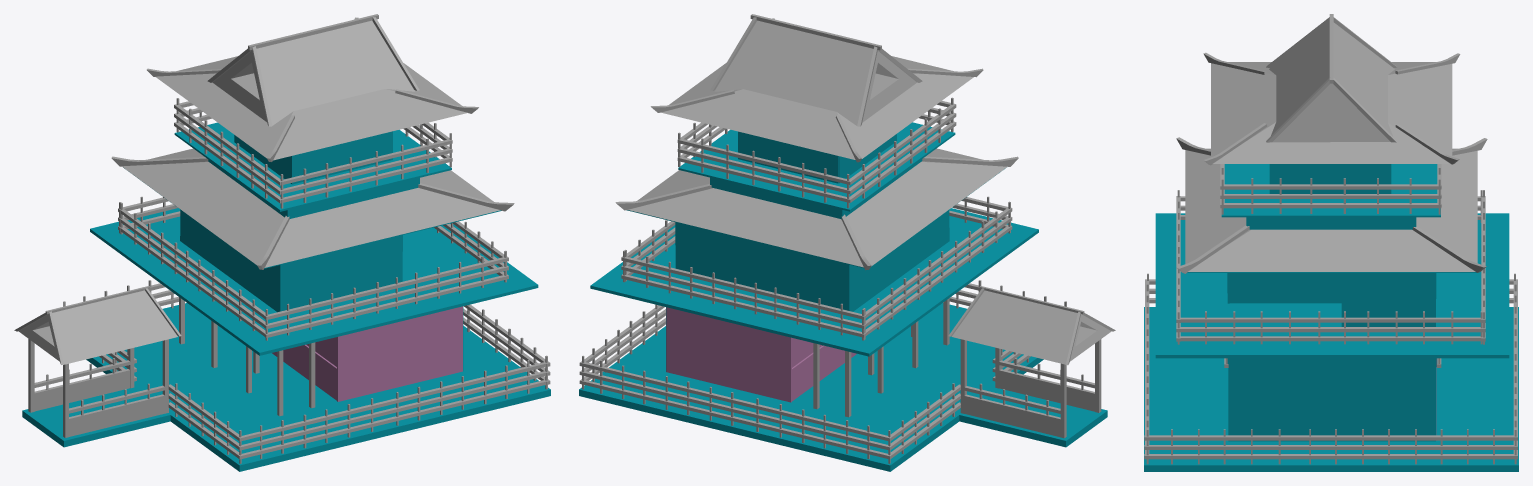
The model's file is main house.fbx.
The picture shows the model from 3 angles, left to right: view 1: azimuth 30°, elevation 25°; view 2: azimuth 150°, elevation 25°; view 3: azimuth 270°, elevation 25°; orthographic projection. The views are drawn at different scales.
Visible parts, largest first — view 1: railings1, polySurface54, polySurface184, polySurface655, polySurface236, polySurface186, polySurface656, polySurface228, polySurface57, polySurface65, polySurface58, polySurface55 (+4 smaller); view 2: railings1, polySurface54, polySurface184, polySurface655, polySurface236, polySurface186, polySurface657, polySurface658, polySurface228, polySurface65, polySurface58, polySurface55 (+5 smaller); view 3: railings1, polySurface655, polySurface54, polySurface184, polySurface169, polySurface186, polySurface236, polySurface65, polySurface60, polySurface659, polySurface66, polySurface62 (+4 smaller).
Part boxes in pixels (bbox=[...]): railings1: bbox=[28, 98, 550, 463]; polySurface54: bbox=[86, 303, 550, 471]; polySurface184: bbox=[122, 148, 500, 267]; polySurface655: bbox=[90, 208, 538, 355]; polySurface236: bbox=[212, 20, 414, 125]; polySurface186: bbox=[155, 56, 467, 160]; polySurface656: bbox=[337, 306, 462, 401]; polySurface228: bbox=[18, 290, 177, 364]; polySurface57: bbox=[281, 235, 402, 310]; polySurface65: bbox=[174, 122, 451, 211]; polySurface58: bbox=[180, 209, 281, 312]; polySurface55: bbox=[22, 387, 171, 447]; railings1: bbox=[579, 97, 1101, 463]; polySurface54: bbox=[579, 303, 1043, 471]; polySurface184: bbox=[628, 148, 1007, 267]; polySurface655: bbox=[590, 208, 1038, 356]; polySurface236: bbox=[714, 20, 916, 125]; polySurface186: bbox=[661, 56, 973, 159]; polySurface657: bbox=[666, 307, 791, 402]; polySurface658: bbox=[675, 222, 848, 310]; polySurface228: bbox=[951, 290, 1111, 364]; polySurface65: bbox=[678, 122, 955, 211]; polySurface58: bbox=[847, 210, 949, 311]; polySurface55: bbox=[958, 388, 1107, 447]; railings1: bbox=[1144, 137, 1517, 464]; polySurface655: bbox=[1155, 213, 1509, 358]; polySurface54: bbox=[1144, 307, 1518, 471]; polySurface184: bbox=[1185, 148, 1477, 271]; polySurface169: bbox=[1228, 358, 1435, 441]; polySurface186: bbox=[1211, 62, 1452, 163]; polySurface236: bbox=[1269, 22, 1394, 142]; polySurface65: bbox=[1221, 164, 1440, 217]; polySurface60: bbox=[1341, 273, 1434, 326]; polySurface659: bbox=[1229, 273, 1341, 303]; polySurface66: bbox=[1269, 164, 1389, 193]; polySurface62: bbox=[1247, 217, 1415, 229].
Size of the model in its own units: 110 by 83.5 by 81.01.
